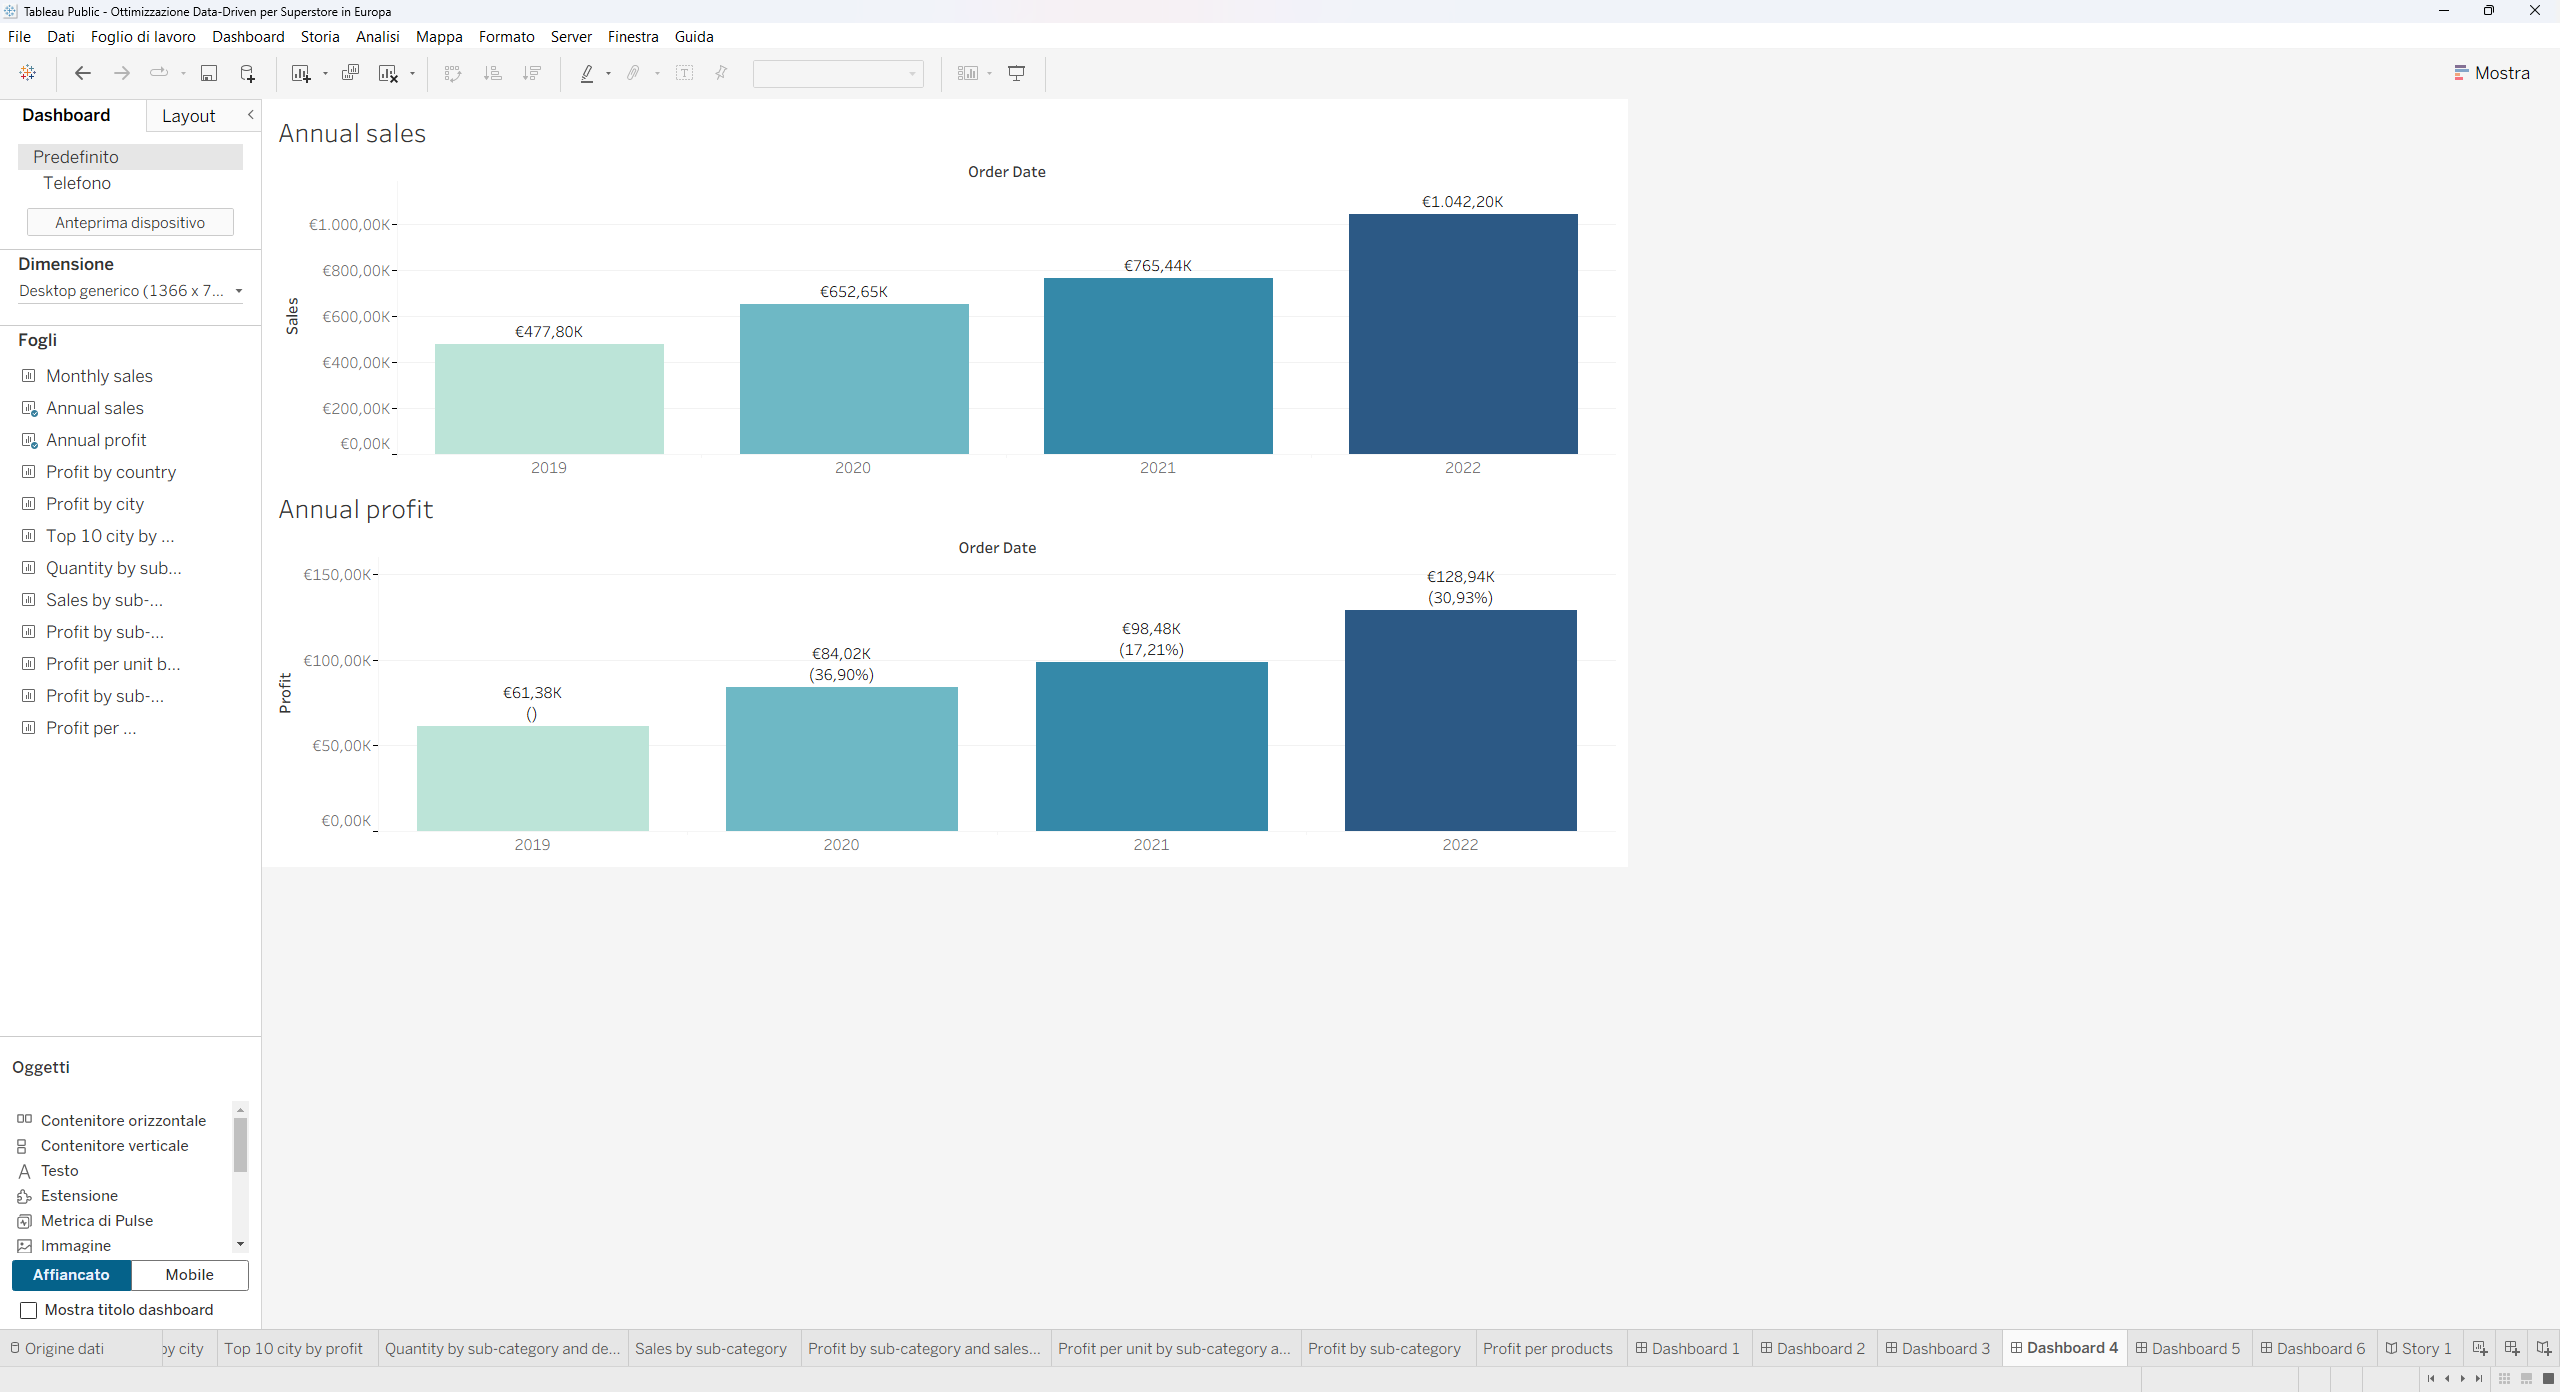

What the dashboard file says about the page in this screenshot:
{"tool":"tableau","page":{"name":"Dashboard 4","canvas":[1366,768],"ordinal":3},"visuals":[{"type":"worksheet","title":"Annual sales","mark":"Bar","rows":["Sales"],"cols":["Order Date"],"box":[8,8,1350,376]},{"type":"worksheet","title":"Annual profit","mark":"Bar","rows":["Profit"],"cols":["Order Date"],"box":[8,384,1350,376]}]}

Visuals, with their boxes on the page's 1366x768 design canvas (x1, y1, x2, y2). These are canvas units, not pixel positions in the 2560x1392 screenshot, which may show the page scaled, cropped or inside an application window:
"Annual sales" worksheet (Bar marks): x1=8, y1=8, x2=1358, y2=384
"Annual profit" worksheet (Bar marks): x1=8, y1=384, x2=1358, y2=760
